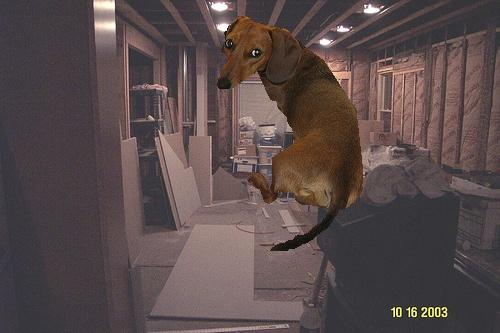tampered: (218, 17, 363, 251)
